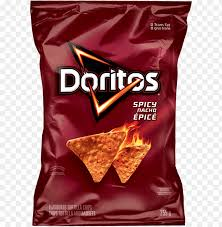Doritos: (56, 63, 168, 150)
